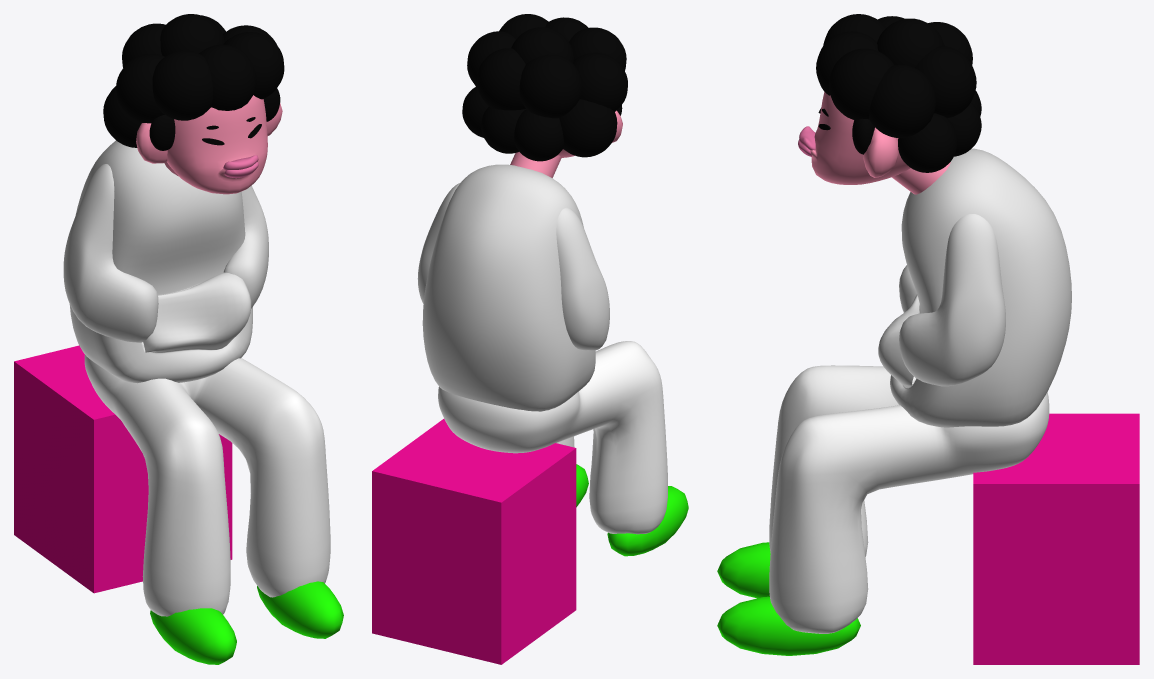
The picture shows the model from 3 angles, left to right: view 1: azimuth 30°, elevation 25°; view 2: azimuth 150°, elevation 25°; view 3: azimuth 270°, elevation 25°; orthographic projection. The views are drawn at different scales.
Parts seen in each view (by area): view 1: pCube10, pCube9, 1-2body, hair, 3-2body, pCube1, pCube13, pCube12; view 2: pCube9, 1-2body, pCube10, hair, 3-2body, pCube13, pCube1; view 3: pCube9, pCube10, 1-2body, hair, 3-2body, pCube1, pCube12, pCube13.
Part boxes in pixels (x1,y1,x2,y2): pCube10: (84, 342, 330, 616); pCube9: (14, 345, 232, 593); 1-2body: (69, 140, 252, 383); hair: (103, 14, 284, 150); 3-2body: (63, 164, 268, 342); pCube1: (136, 95, 282, 194); pCube13: (150, 608, 236, 664); pCube12: (257, 581, 343, 638); pCube9: (372, 419, 576, 664); 1-2body: (422, 164, 595, 411); pCube10: (438, 341, 667, 534); hair: (462, 14, 627, 161); 3-2body: (417, 182, 609, 350); pCube13: (607, 486, 688, 556); pCube1: (510, 110, 622, 177); pCube9: (973, 413, 1139, 664); pCube10: (769, 365, 1049, 633); 1-2body: (878, 148, 1071, 427); hair: (816, 14, 981, 172); 3-2body: (899, 214, 1005, 386); pCube1: (810, 92, 950, 194); pCube12: (717, 596, 860, 655); pCube13: (717, 542, 770, 598).
Size of the model in its own units: 0.4183 by 1.21 by 0.7618.
